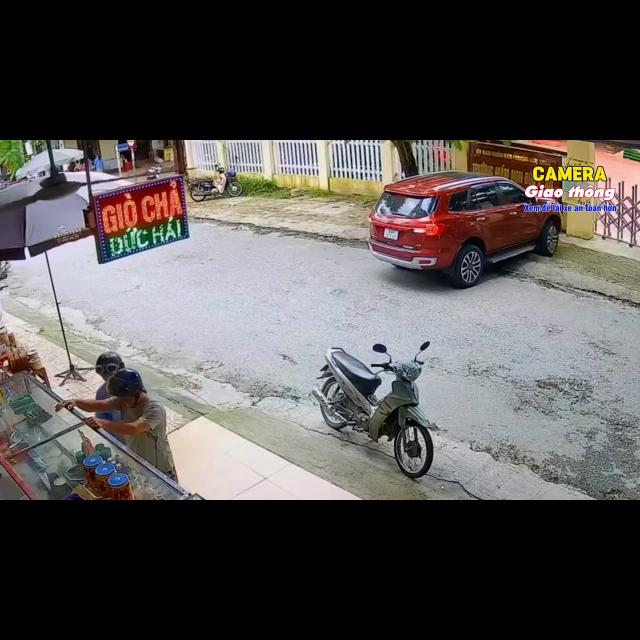car: (369, 171, 561, 287)
motorcycle: (312, 342, 433, 478), (189, 164, 242, 201), (0, 260, 12, 280), (147, 166, 161, 179)
